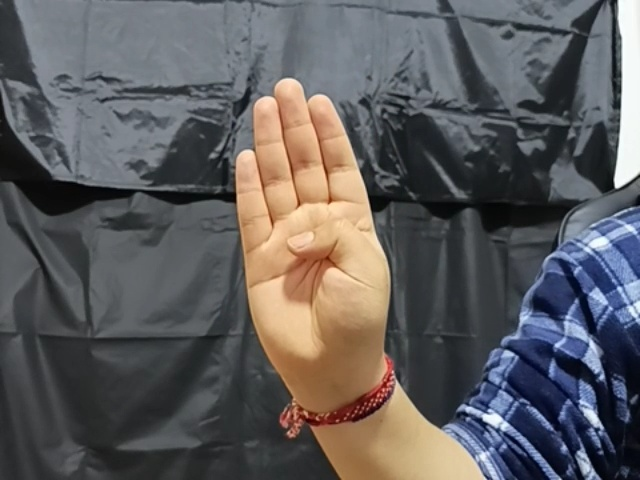B: (223, 76, 411, 398)
